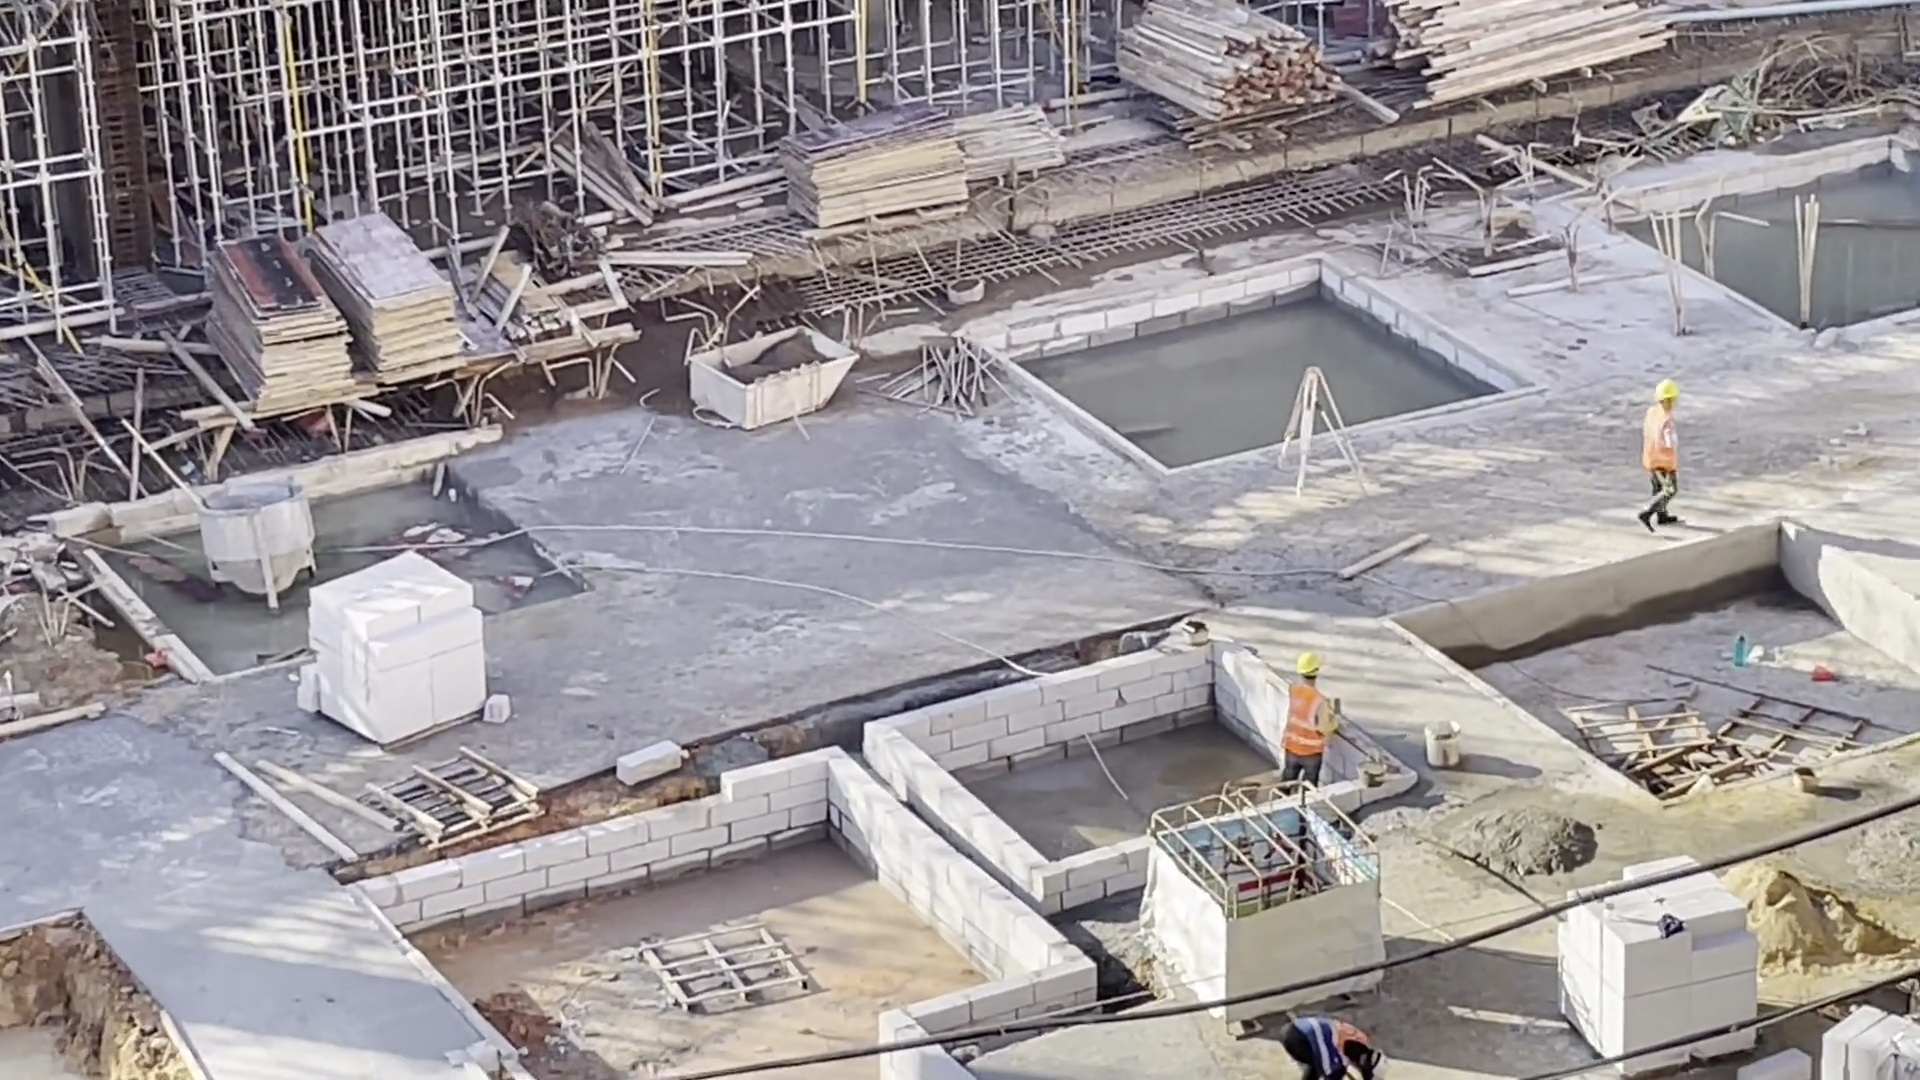board: (204, 239, 366, 407), (351, 222, 481, 402), (813, 116, 973, 227)
brick: (1553, 872, 1723, 1051), (286, 572, 479, 731), (1789, 994, 1895, 1080)
helmet: (1298, 654, 1336, 701), (1659, 381, 1688, 417), (1366, 1052, 1389, 1077)
hopper: (699, 321, 854, 444)
person: (1283, 1006, 1369, 1080), (1643, 376, 1686, 518), (1289, 666, 1336, 790)
vest: (1291, 1009, 1368, 1076), (1646, 406, 1679, 492), (1294, 691, 1331, 764)
wood: (1391, 1, 1598, 102), (1167, 1, 1314, 127)
